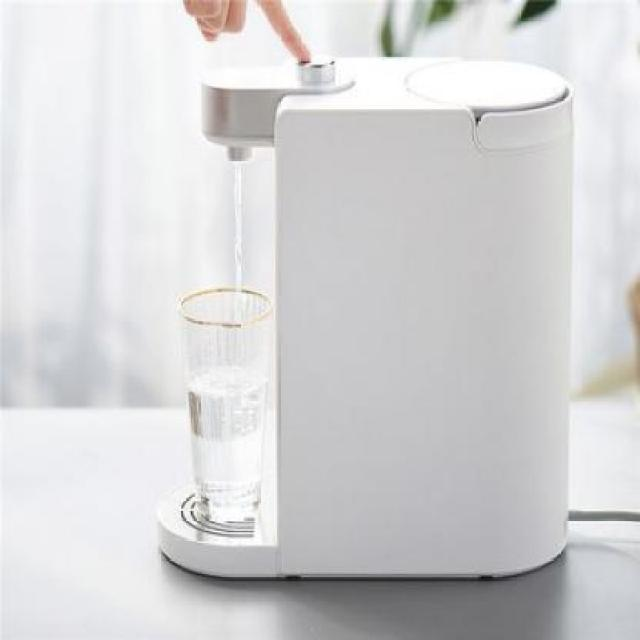cooler: (157, 51, 573, 585)
